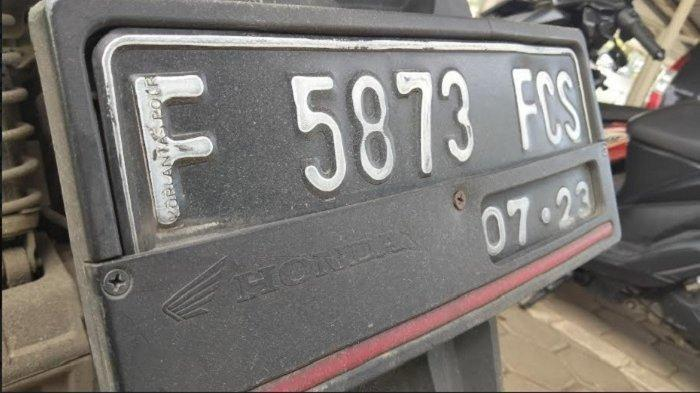3: (437, 59, 490, 168)
5: (279, 67, 358, 199)
7: (390, 62, 449, 183)
8: (334, 64, 408, 193)
C: (534, 70, 564, 146)
F: (116, 65, 239, 237), (505, 66, 538, 156)
S: (558, 71, 582, 144)
